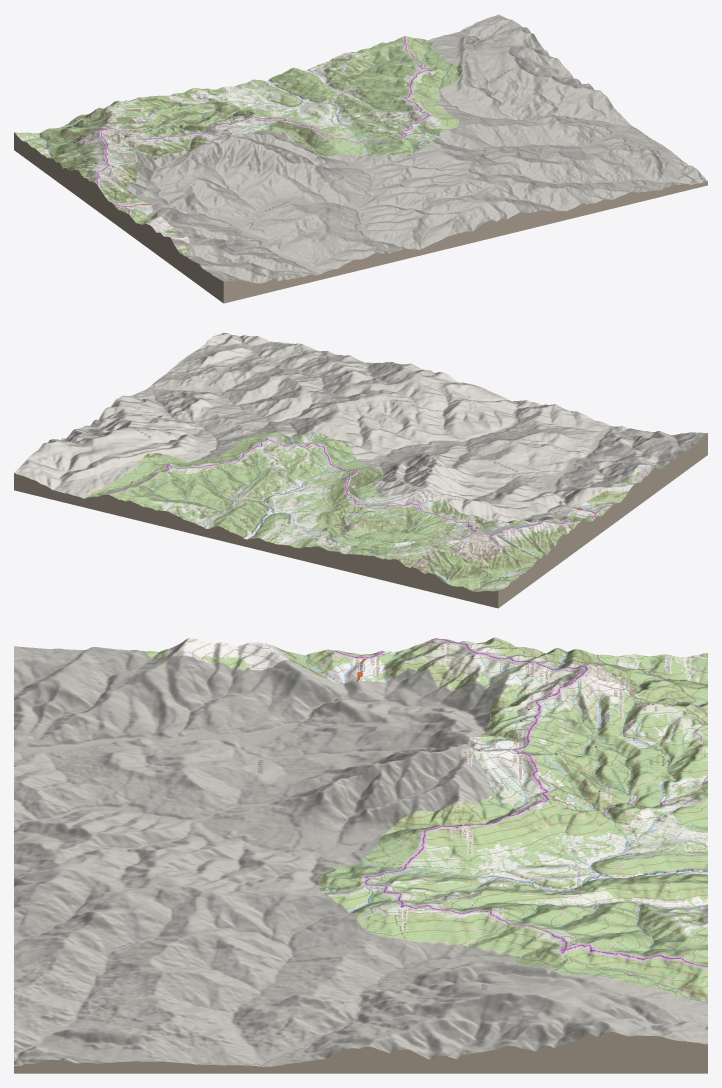
The picture shows the model from 3 angles, top to bottom: view 1: azimuth 30°, elevation 25°; view 2: azimuth 150°, elevation 25°; view 3: azimuth 270°, elevation 25°; orthographic projection. The views are drawn at different scales.
Parts seen in each view (by area): view 1: BV50-F6 Bratocea din Jos; view 2: BV50-F6 Bratocea din Jos; view 3: BV50-F6 Bratocea din Jos.
Part boxes in pixels (left/top/right/bottom): BV50-F6 Bratocea din Jos: left=14, top=14, right=707, bottom=303; BV50-F6 Bratocea din Jos: left=14, top=332, right=707, bottom=608; BV50-F6 Bratocea din Jos: left=14, top=637, right=707, bottom=1073.
Bounding box in the file's own units: 20000 × 1371 × 15000.
4 materials, 1 textured.
